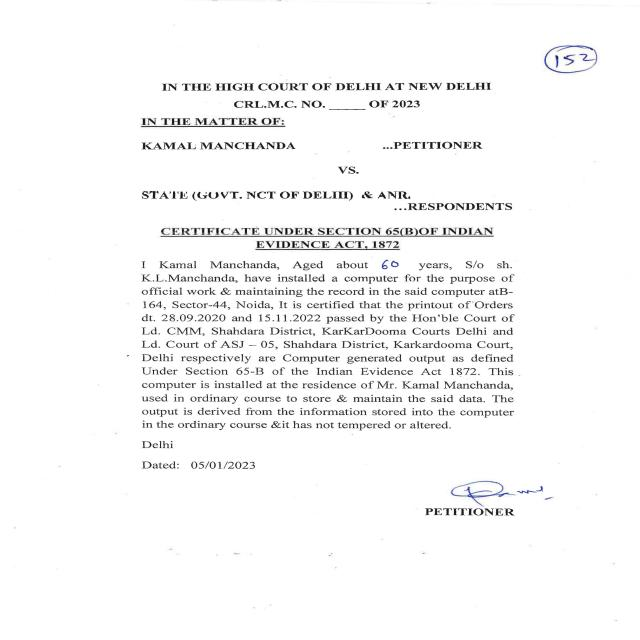page-number: (492, 2, 637, 163)
